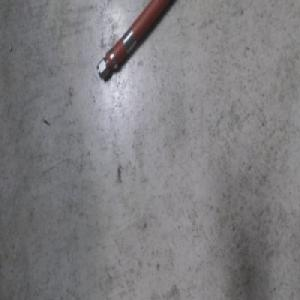Hose: (96, 0, 176, 83)
